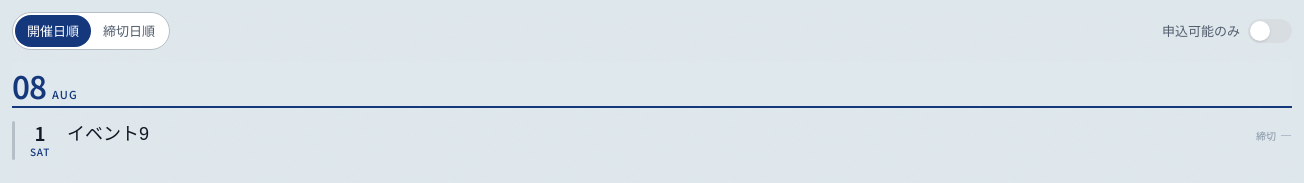
Test case: EventListClient — 申込可能フィルタ › フィルタ ON で 0 件なら専用の空表示
The image size is (1304, 183).
Click the switch named "申込可能のみ": (1270, 31) x1=1248 y1=19 x2=1292 y2=43
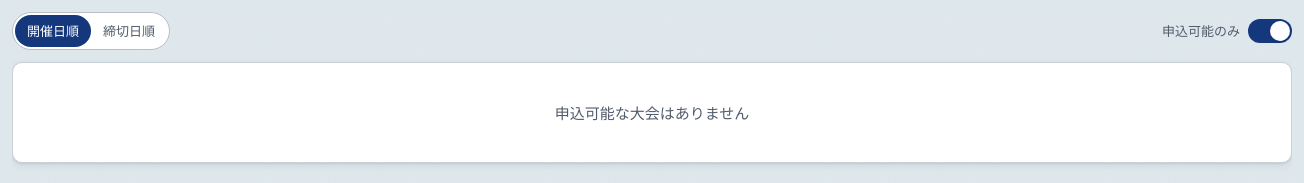
Result: the text "申込可能な大会はありません" is shown at x1=555 y1=102 x2=749 y2=123
